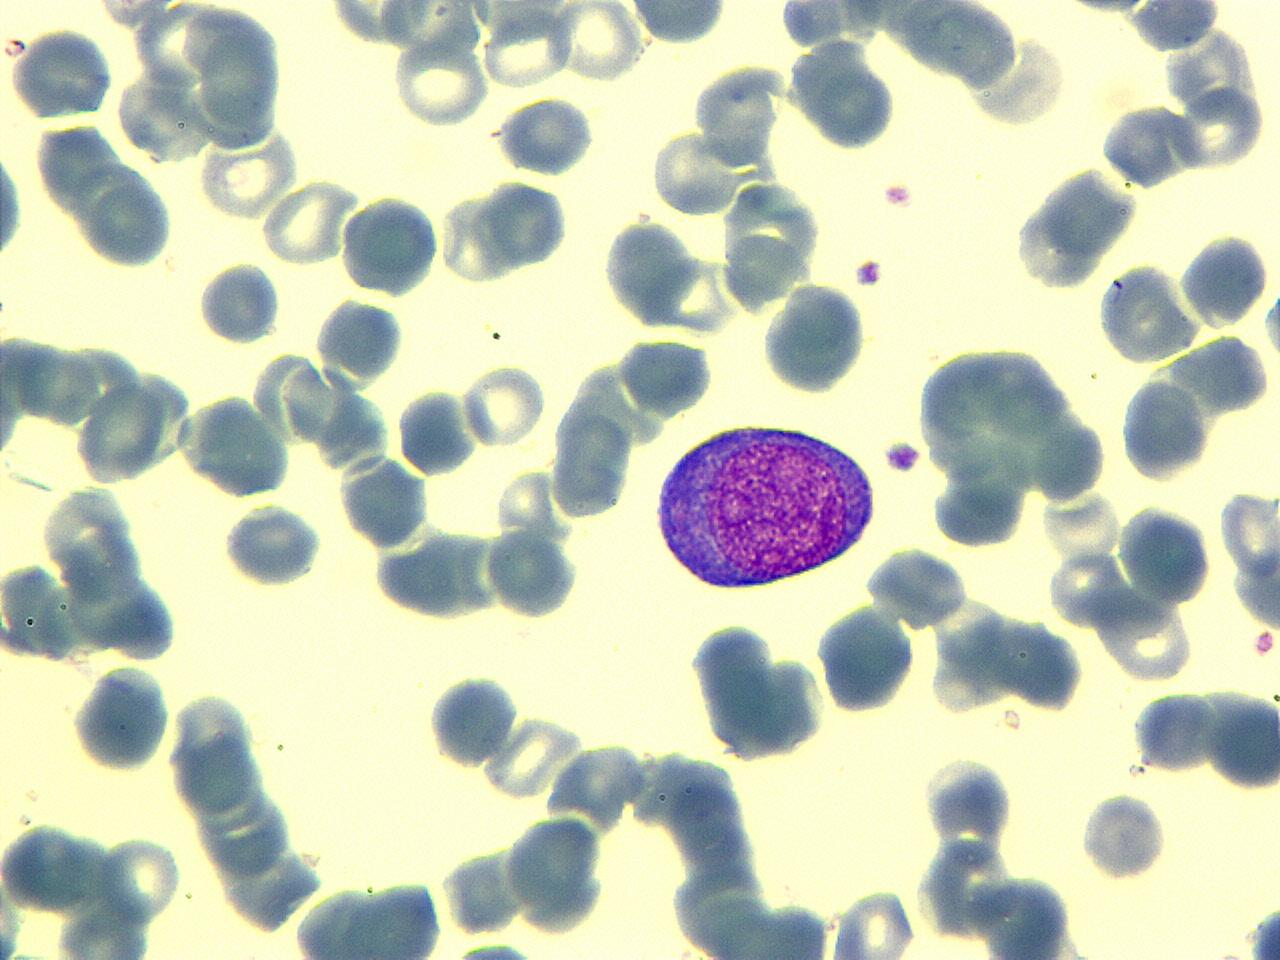Platelets: (69, 662, 177, 775), (482, 526, 583, 622), (426, 669, 518, 770), (220, 502, 326, 590), (1076, 788, 1172, 883), (195, 259, 283, 346), (1125, 2, 1227, 55), (0, 141, 25, 264), (454, 938, 534, 960), (881, 437, 924, 476), (1249, 906, 1280, 960), (1261, 290, 1280, 363), (878, 182, 916, 210), (0, 932, 19, 960)
RBC: (716, 15, 1280, 314), (66, 658, 179, 770), (180, 391, 300, 496), (500, 812, 604, 932), (340, 192, 444, 296), (9, 24, 118, 121), (1116, 500, 1214, 606), (1176, 227, 1274, 330), (483, 522, 579, 622), (196, 131, 300, 222), (389, 37, 492, 127), (221, 502, 326, 590), (476, 179, 573, 272), (1175, 81, 1269, 174), (260, 179, 358, 267), (312, 296, 409, 384), (97, 831, 184, 925), (1202, 685, 1280, 791), (461, 358, 548, 451), (10, 333, 96, 426), (551, 0, 646, 83), (195, 258, 284, 344), (480, 5, 570, 90), (398, 382, 478, 476), (439, 191, 514, 287), (1219, 485, 1279, 582), (622, 0, 732, 46), (0, 134, 26, 274)
WBC: (0, 552, 362, 960), (726, 0, 1280, 263), (906, 332, 1107, 547), (0, 458, 191, 676), (650, 414, 880, 592), (750, 0, 950, 160), (686, 615, 833, 769), (1011, 162, 1141, 292), (498, 808, 616, 940), (288, 876, 452, 959), (176, 389, 296, 500), (762, 278, 874, 396), (600, 212, 706, 332), (812, 600, 920, 716), (338, 193, 444, 298), (1115, 372, 1213, 482), (1116, 501, 1214, 610), (11, 24, 117, 120), (1177, 230, 1273, 328), (476, 179, 574, 274), (494, 93, 598, 178), (612, 335, 718, 417), (315, 292, 406, 386), (1128, 686, 1215, 776), (198, 257, 283, 347), (624, 0, 732, 46)
